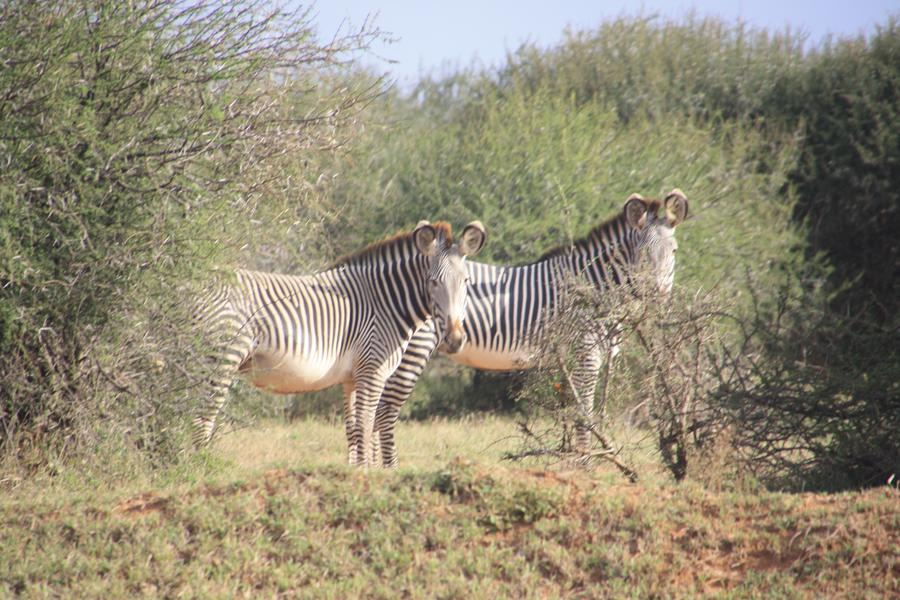zebra_grevys: (225, 246, 391, 385), (474, 246, 609, 364)
